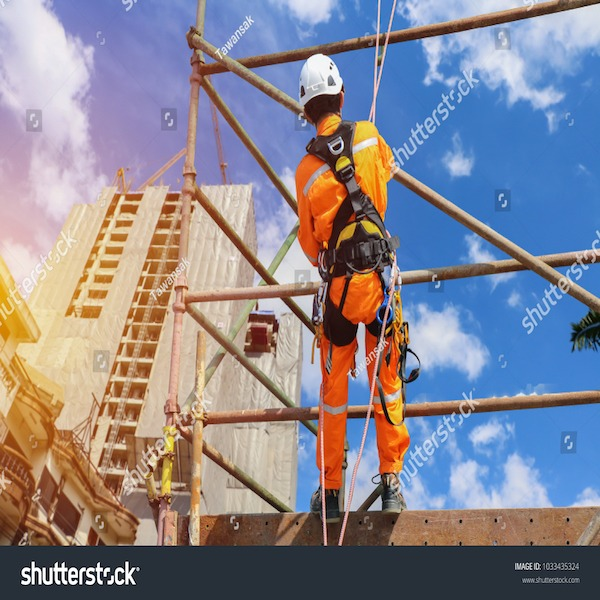helmet: (295, 54, 347, 105)
vest: (300, 149, 413, 504)
